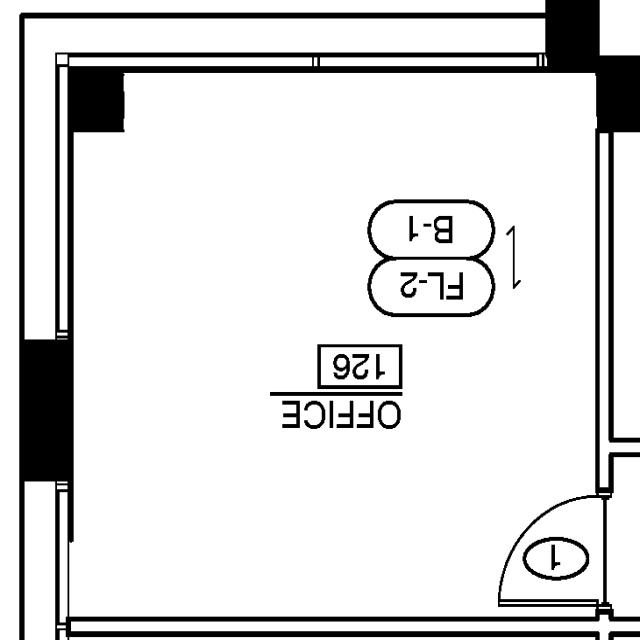Doors: (492, 489, 614, 613)
